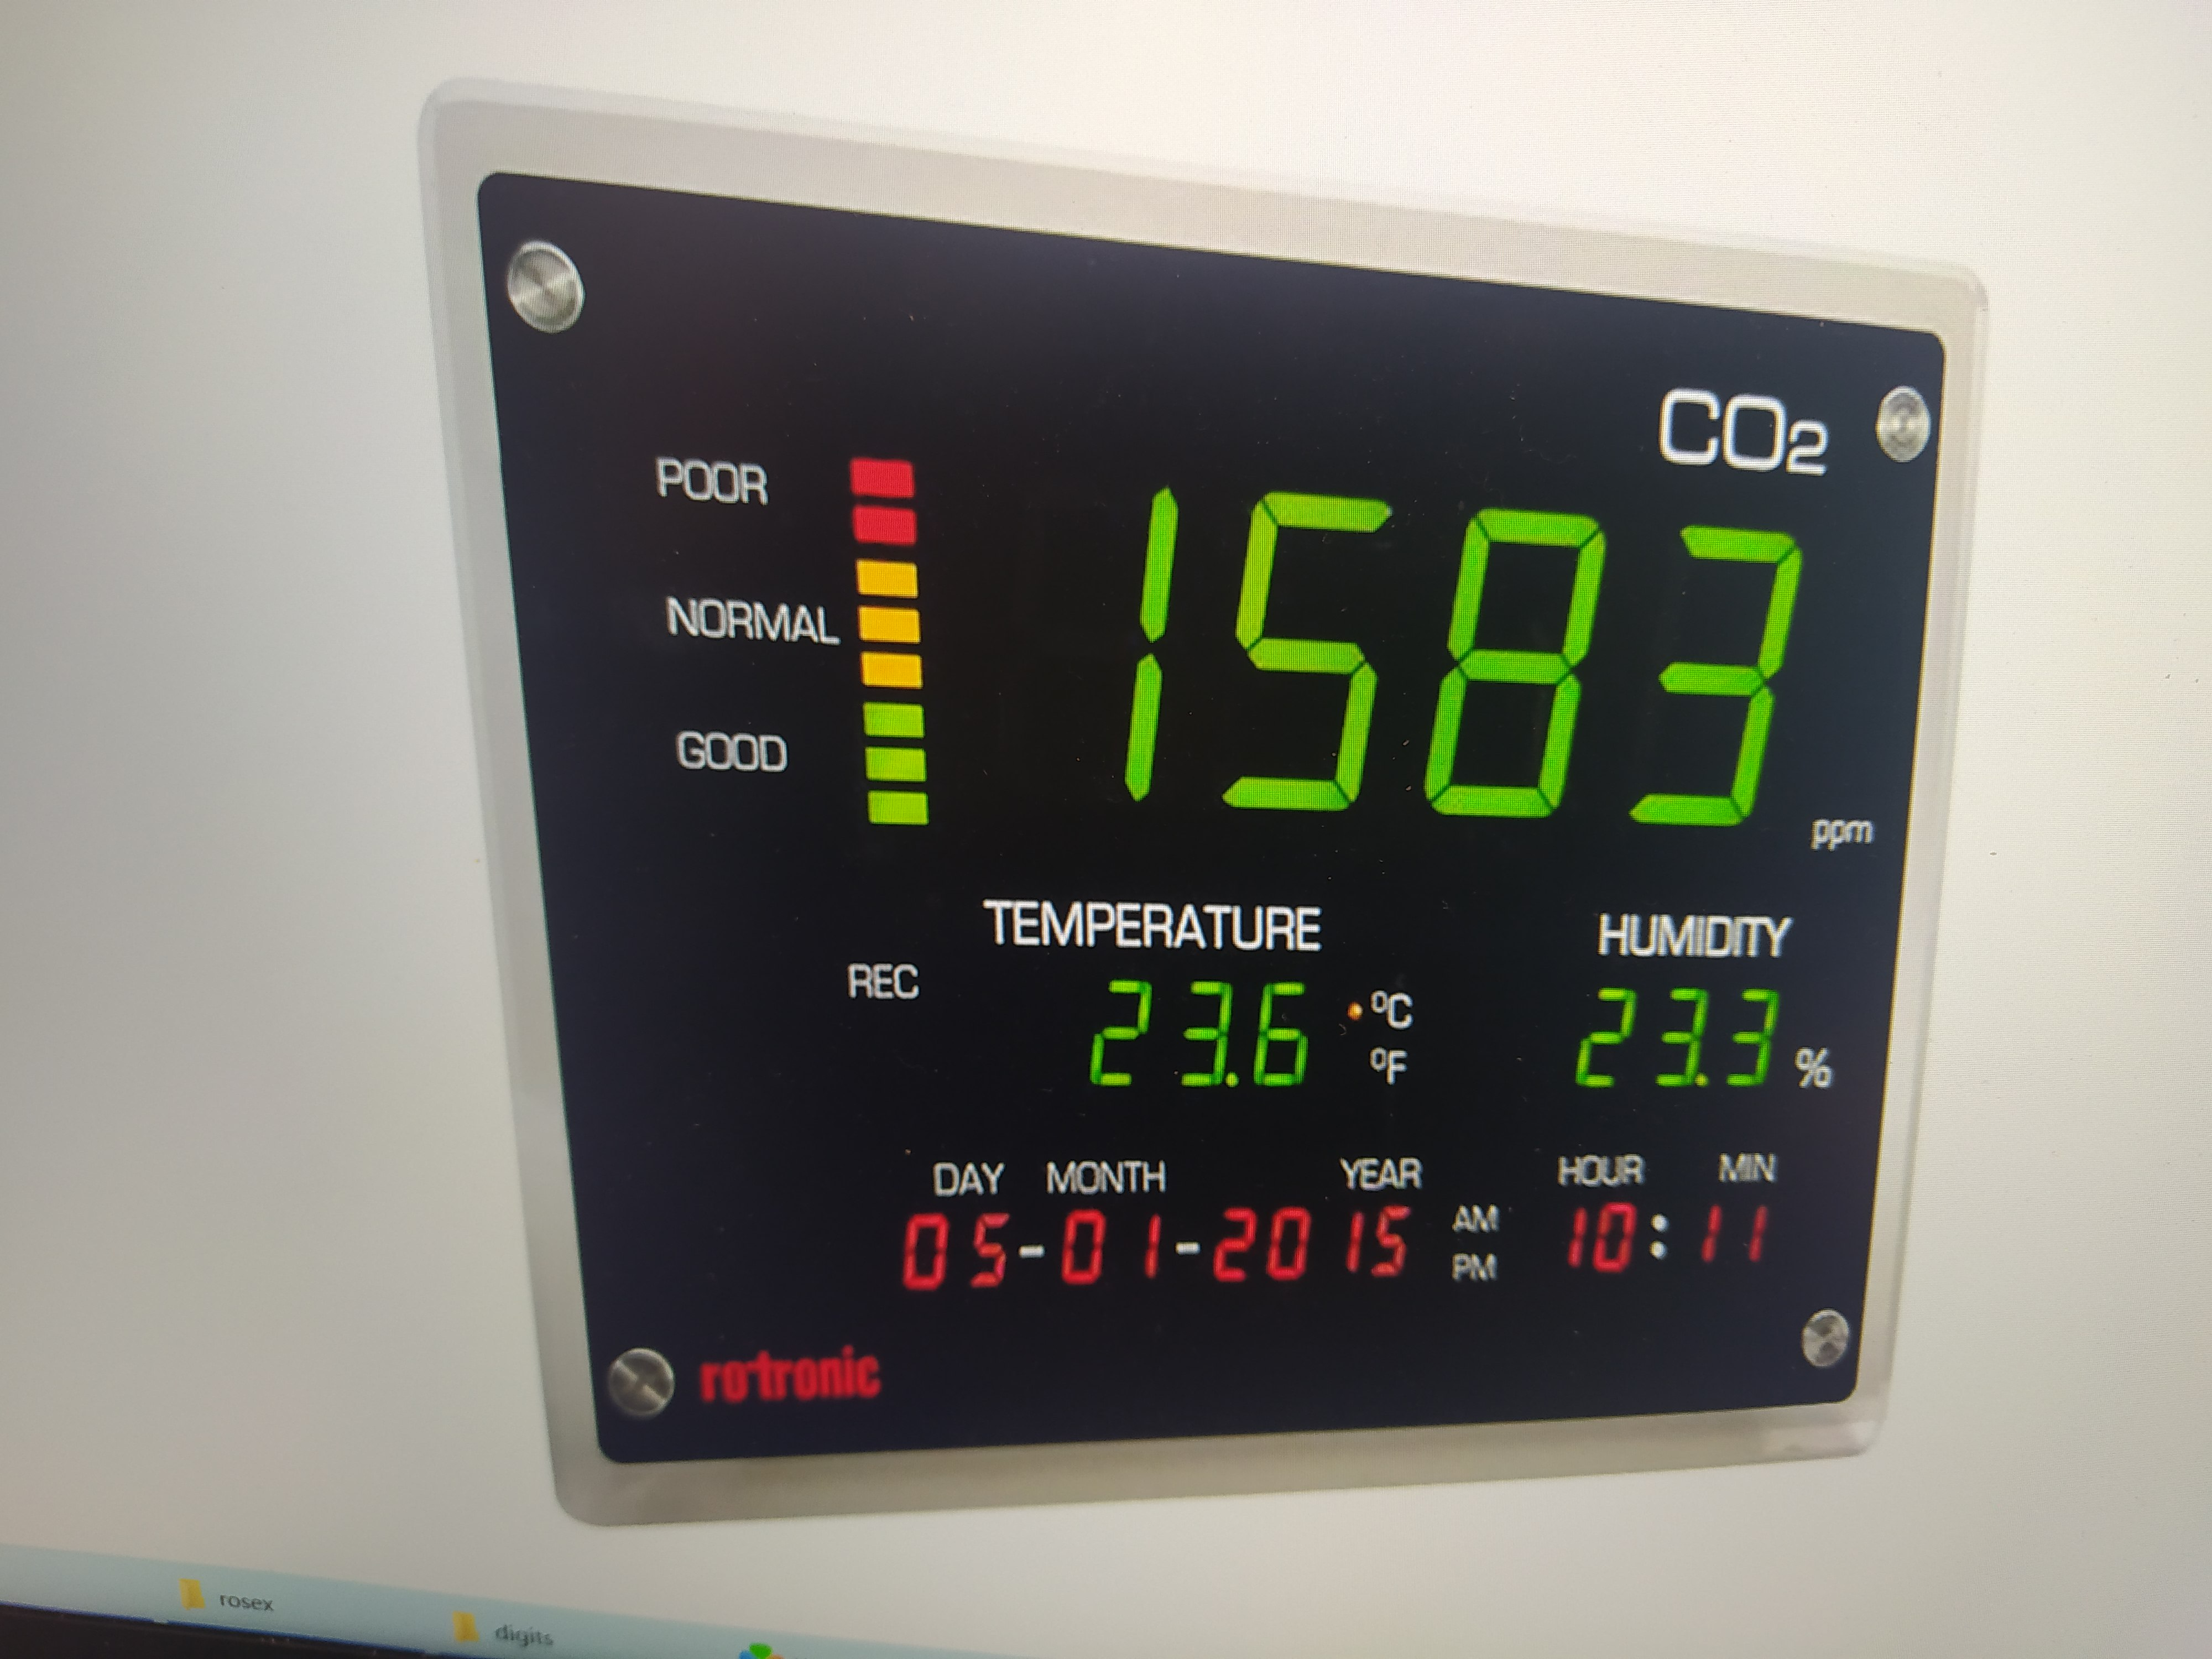.: (1226, 985, 1240, 1087), (1696, 986, 1709, 1089)
0: (900, 1211, 949, 1291), (1061, 1209, 1106, 1284), (1266, 1206, 1310, 1281), (1590, 1202, 1635, 1272)
1: (1125, 483, 1177, 803), (1141, 1211, 1165, 1279), (1343, 1211, 1364, 1272), (1568, 1206, 1587, 1269), (1747, 1204, 1766, 1262), (1702, 1204, 1721, 1262)
2: (1089, 981, 1151, 1087), (1573, 986, 1635, 1087), (1211, 1206, 1258, 1283), (1785, 418, 1827, 476)
3: (1630, 525, 1803, 828), (1181, 981, 1233, 1086), (1655, 986, 1705, 1089), (1728, 990, 1778, 1084)
5: (1223, 488, 1392, 812), (967, 1213, 1010, 1286), (1371, 1204, 1411, 1276)
6: (1254, 983, 1310, 1086)
8: (1423, 509, 1604, 819)
